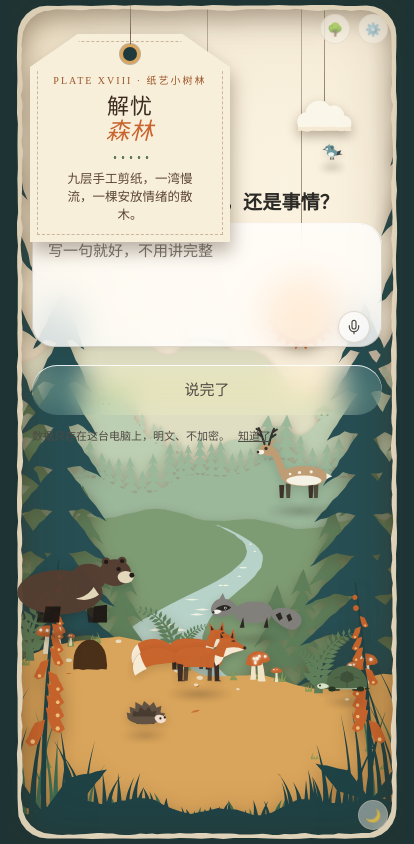
四幕界面逐幕走查 › 思考路径：同意之后三视角与折返镜逐角出现
Type "今天被拒了" into the text box with placeholder "写一句就好，不用讲完整". click: (207, 285)
box: [32,223,382,347]
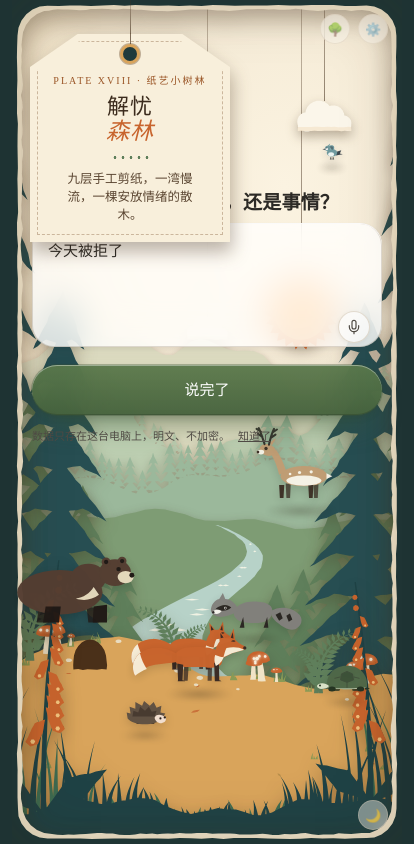
Click the button "说完了". click: (207, 390)
box: [32,365,382,416]
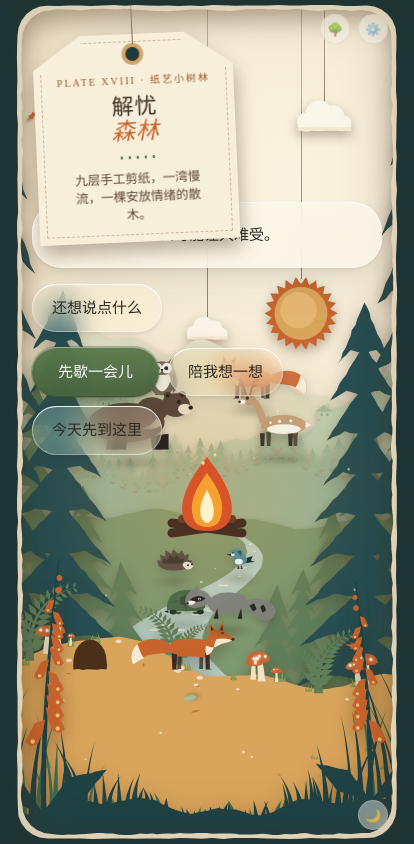
Result: the text "被这样对待，确实可能让人难受。" is shown at [32,202,382,268]
Click the button "陪我想一想". click: (226, 372)
box: [168,348,283,396]
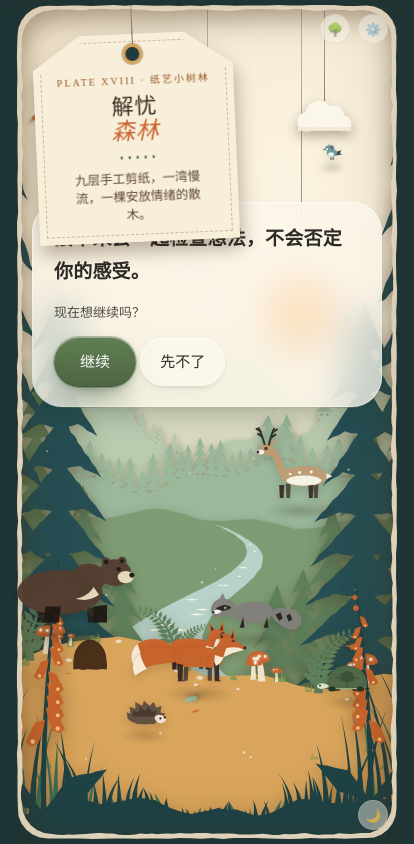
Result: the button "继续" is shown
Click the button "继续". click: (95, 362)
box: [54,337,136,387]
(page scrolled)
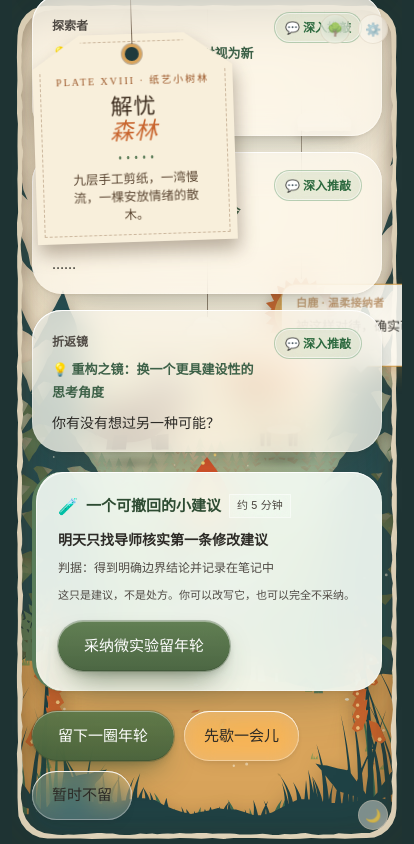
Result: the text "你有没有想过另一种可能？" is shown at [52,414,220,431]
